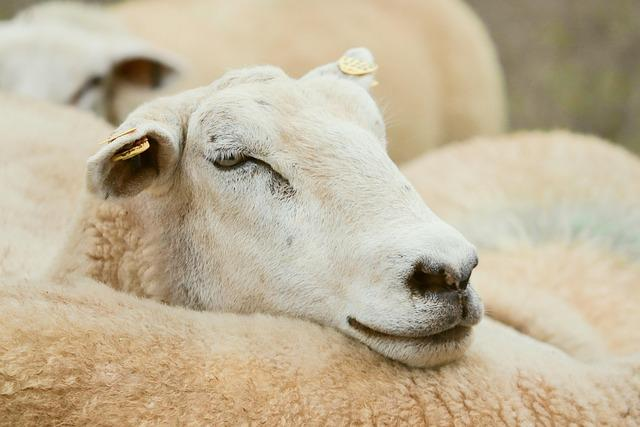Non_Gorille: (41, 29, 540, 394)
